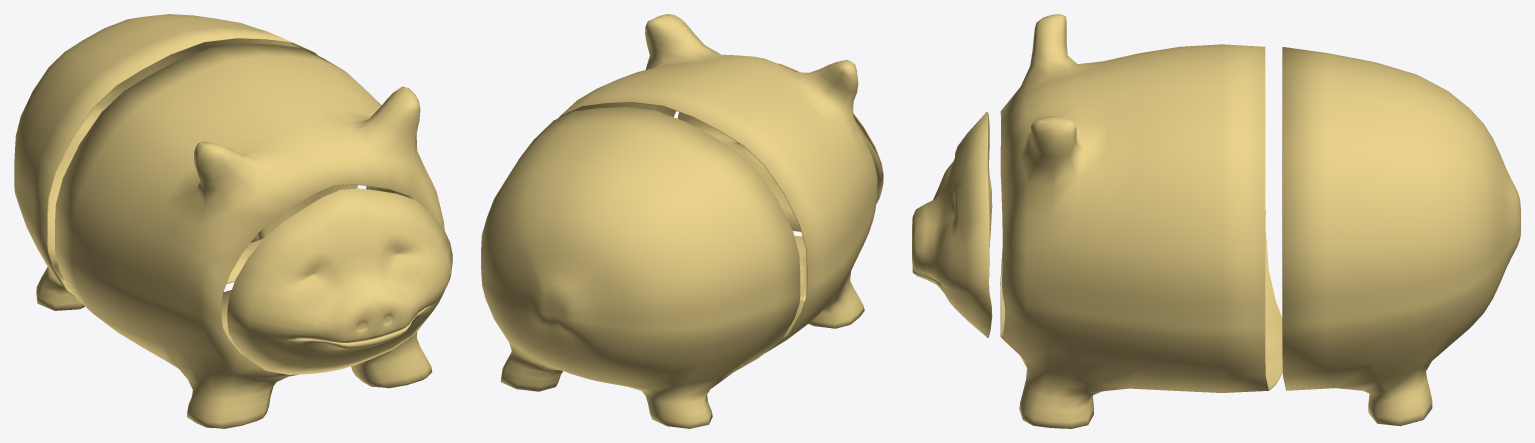
Rendered from shatteredpig4.gltf.
3 renders of one model, left to right at view 1: azimuth 30°, elevation 25°; view 2: azimuth 150°, elevation 25°; view 3: azimuth 270°, elevation 25°, orthographic. The views are drawn at different scales.
Visible parts, largest first — view 1: pig, pig.001, pig.002; view 2: pig.002, pig, pig.001; view 3: pig, pig.002, pig.001.
Boxes of the visible parts, x1,y1,x2,y2 form: pig: (55, 43, 444, 428); pig.001: (227, 188, 452, 374); pig.002: (14, 14, 357, 310); pig.002: (481, 107, 800, 428); pig: (558, 14, 877, 352); pig.001: (677, 63, 883, 231); pig: (1000, 14, 1282, 428); pig.002: (1282, 47, 1520, 426); pig.001: (912, 111, 992, 337).
Bounding box in the file's own units: 3.81 × 3.19 × 5.78.
